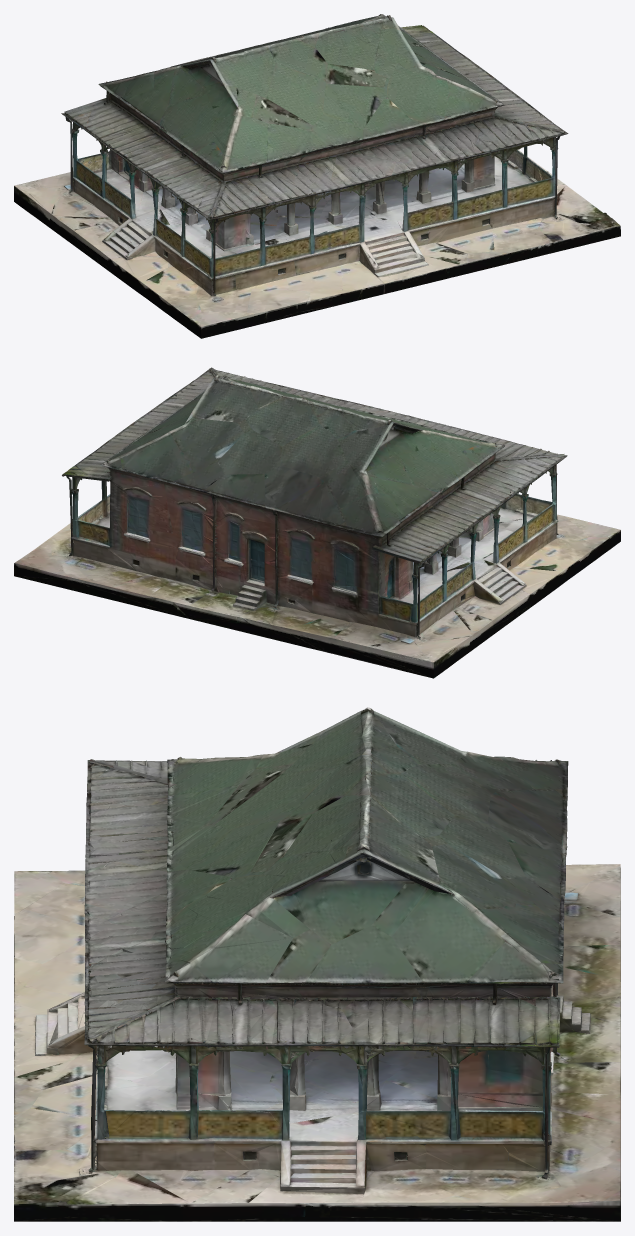
File: jeonggwanheon.glb
3 renders of one model, top to bottom at view 1: azimuth 30°, elevation 25°; view 2: azimuth 150°, elevation 25°; view 3: azimuth 270°, elevation 25°, orthographic. The views are drawn at different scales.
Bounding box in the file's own units: 23.61 × 9.31 × 18.25.
1 material, 1 textured.
